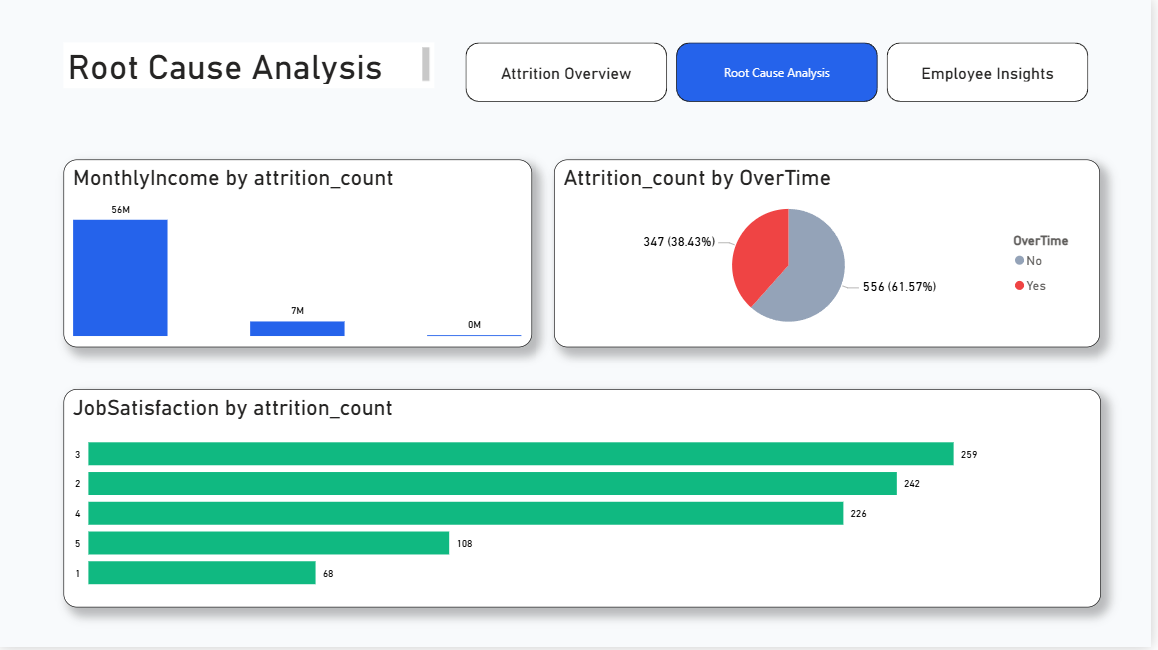

The page's visual inventory and layout, read from the dashboard file:
{"tool":"powerbi","page":{"name":"Root Cause Analysis","canvas":[1280,720],"ordinal":1},"visuals":[{"type":"textbox","box":[71.2,49.2,411.9,50.8],"z":1000},{"type":"columnChart","title":"MonthlyIncome by attrition_count","fields":{"Category":["attrition_salary.attrition_count"],"Y":["Sum(attrition_salary.MonthlyIncome)"]},"box":[71.2,178,520.3,208.5],"z":2000},{"type":"barChart","title":"JobSatisfaction by attrition_count","fields":{"Category":["attrition_satisfaction.JobSatisfaction"],"Y":["Sum(attrition_satisfaction.attrition_count)"]},"box":[71.2,433.9,1152.5,242.4],"z":3000},{"type":"pieChart","title":"Attrition_count by OverTime","fields":{"Category":["attrition_overtime.OverTime"],"Y":["Sum(attrition_overtime.attrition_count)"]},"box":[616.9,178,606.8,208.5],"z":4000},{"type":"pageNavigator","box":[517.7,48.4,693.5,66.1],"z":4001}]}

Visuals, with their boxes in screenshot pixels (x1, y1, x2, y2), scaled from the page's 1280x720 canvas onto the 1158x650 screenshot:
textbox: bbox=[64, 44, 437, 90]
"MonthlyIncome by attrition_count" columnChart: bbox=[64, 161, 535, 349]
"JobSatisfaction by attrition_count" barChart: bbox=[64, 392, 1107, 611]
"Attrition_count by OverTime" pieChart: bbox=[558, 161, 1107, 349]
pageNavigator: bbox=[468, 44, 1096, 103]
